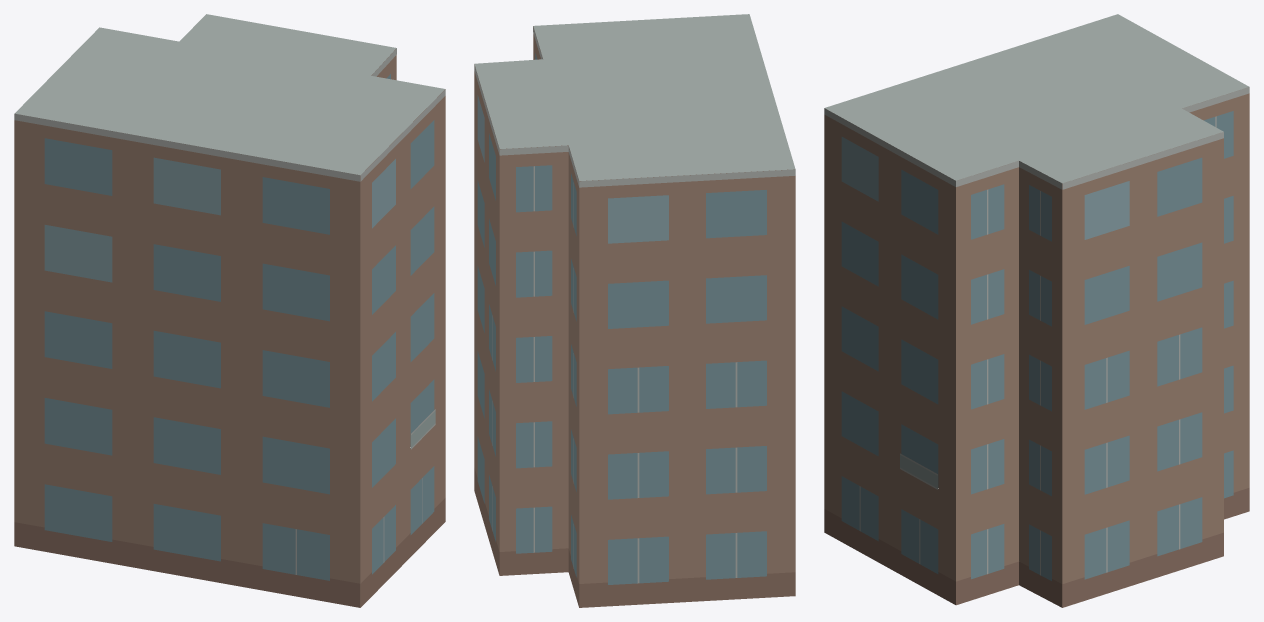
File: survey-upis-32935708.glb
3 renders of one model, left to right at view 1: azimuth 30°, elevation 25°; view 2: azimuth 150°, elevation 25°; view 3: azimuth 270°, elevation 25°, orthographic.
Visible parts, largest first — view 1: survey-upis-32935708.tmp; view 2: survey-upis-32935708.tmp; view 3: survey-upis-32935708.tmp.
Boxes of the visible parts, x1,y1,x2,y2 form: survey-upis-32935708.tmp: [14, 14, 445, 607]; survey-upis-32935708.tmp: [474, 14, 795, 607]; survey-upis-32935708.tmp: [824, 14, 1249, 607].
Bounding box in the file's own units: 13.79 × 16.1 × 14.63.
